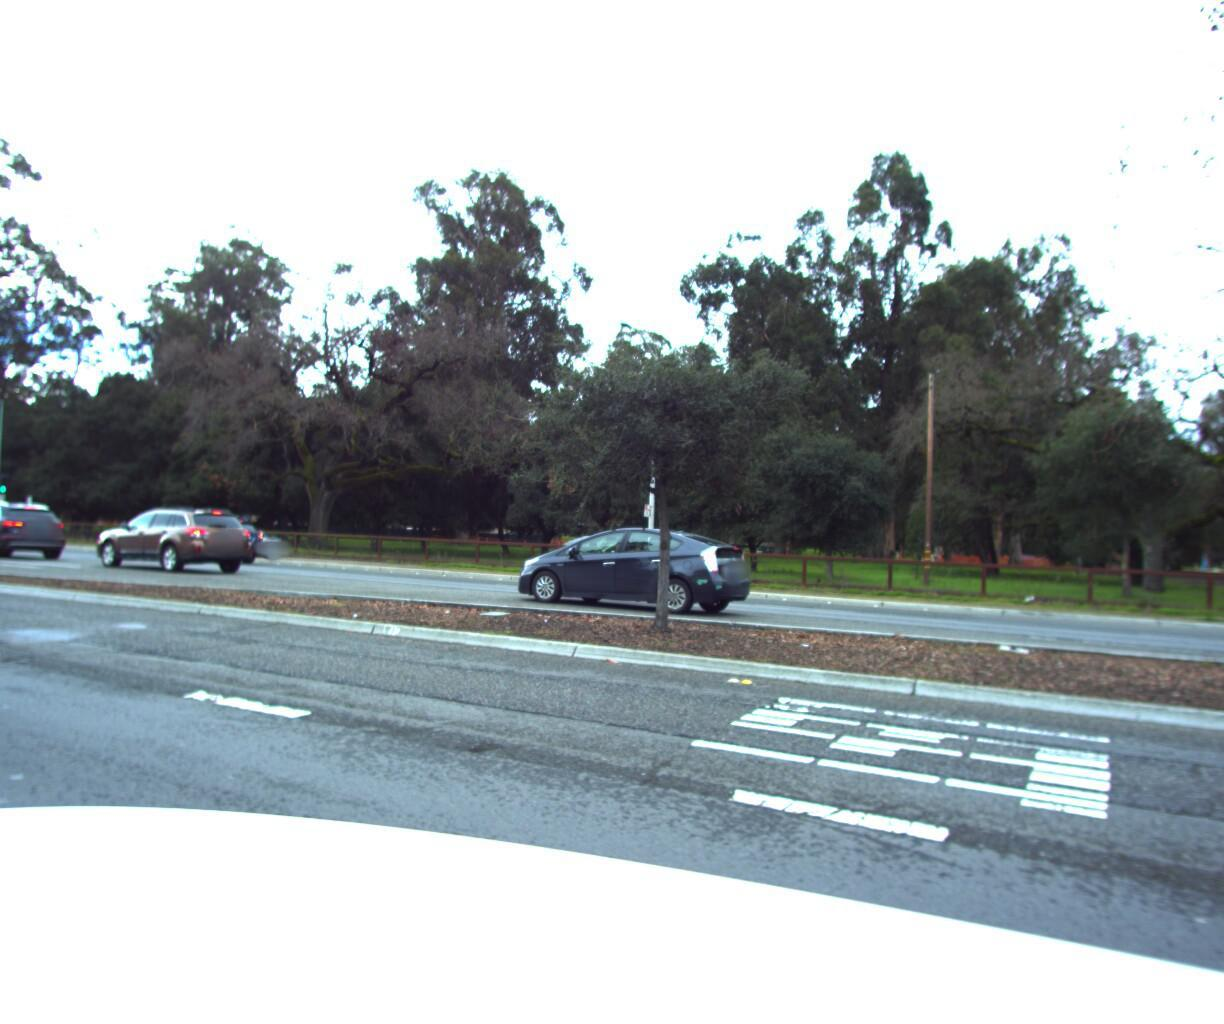car: (514, 521, 773, 619), (91, 495, 267, 573), (148, 504, 270, 559)
